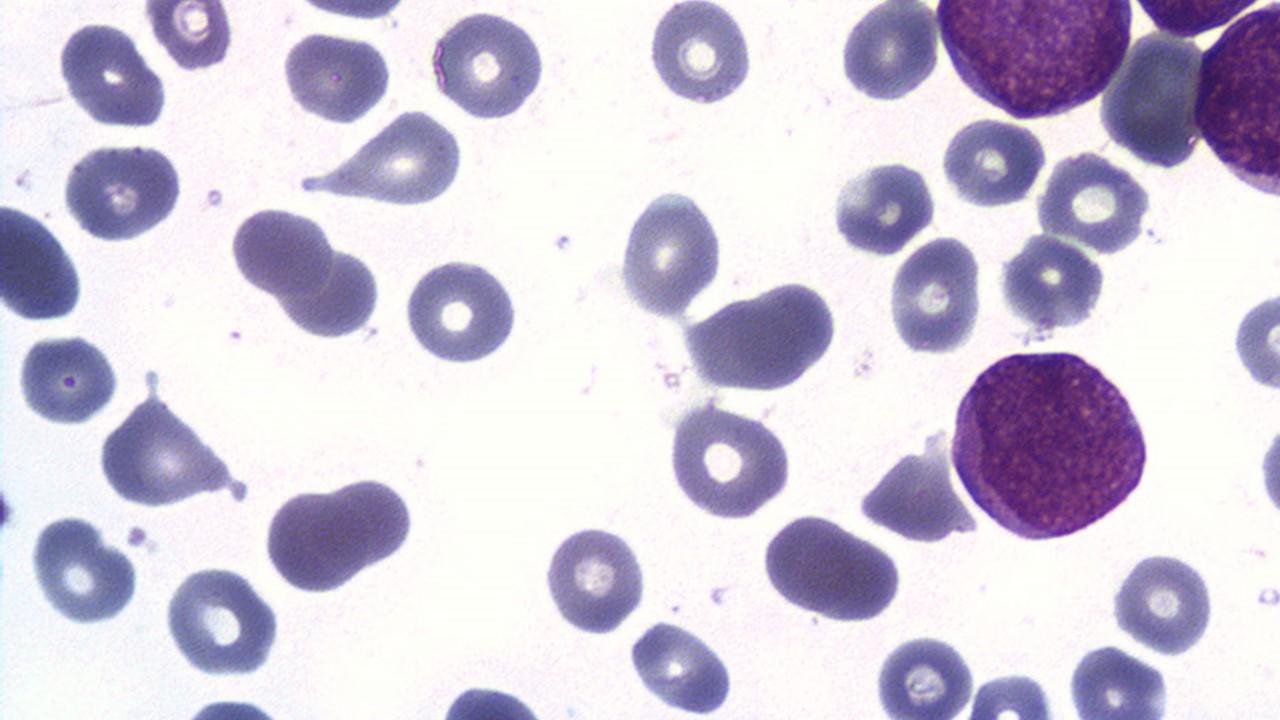Platelets: (432, 678, 552, 718), (0, 482, 18, 541), (228, 477, 253, 506), (124, 522, 149, 550), (201, 185, 226, 212)
RBC: (1192, 0, 1280, 209), (1093, 24, 1211, 175), (302, 104, 466, 208), (664, 397, 794, 524), (616, 182, 724, 322), (161, 559, 282, 683), (399, 254, 521, 368), (25, 512, 144, 627), (52, 17, 170, 132), (1034, 147, 1156, 256), (1106, 547, 1220, 657), (884, 232, 984, 356), (996, 231, 1112, 333), (277, 28, 396, 127), (644, 1, 754, 108), (624, 614, 736, 718), (836, 0, 940, 106), (13, 328, 122, 428), (828, 160, 938, 259), (938, 112, 1048, 209), (868, 628, 982, 717), (143, 0, 235, 74), (1129, 1, 1259, 42), (292, 0, 409, 25)
WBC: (694, 0, 1272, 696), (0, 0, 567, 432), (4, 408, 441, 720), (942, 338, 1155, 547), (932, 0, 1136, 123), (676, 273, 843, 399), (1190, 3, 1280, 204), (1097, 25, 1213, 173), (756, 510, 906, 624), (662, 398, 796, 524), (159, 559, 286, 683), (399, 252, 528, 372), (94, 389, 219, 511), (427, 4, 552, 125), (616, 184, 726, 320), (58, 136, 189, 244), (26, 511, 145, 629), (540, 516, 654, 638), (51, 17, 170, 133), (1039, 148, 1159, 259), (259, 480, 372, 597), (1105, 546, 1219, 659), (644, 0, 759, 108), (277, 27, 398, 129), (1, 190, 90, 328), (13, 326, 128, 430), (624, 614, 739, 716), (224, 200, 337, 302), (834, 0, 942, 104), (827, 159, 939, 258), (318, 475, 420, 574), (1063, 640, 1181, 718), (1229, 274, 1280, 412), (144, 1, 235, 74), (1122, 1, 1268, 39), (425, 680, 562, 717), (1254, 390, 1280, 550), (290, 0, 411, 28)
